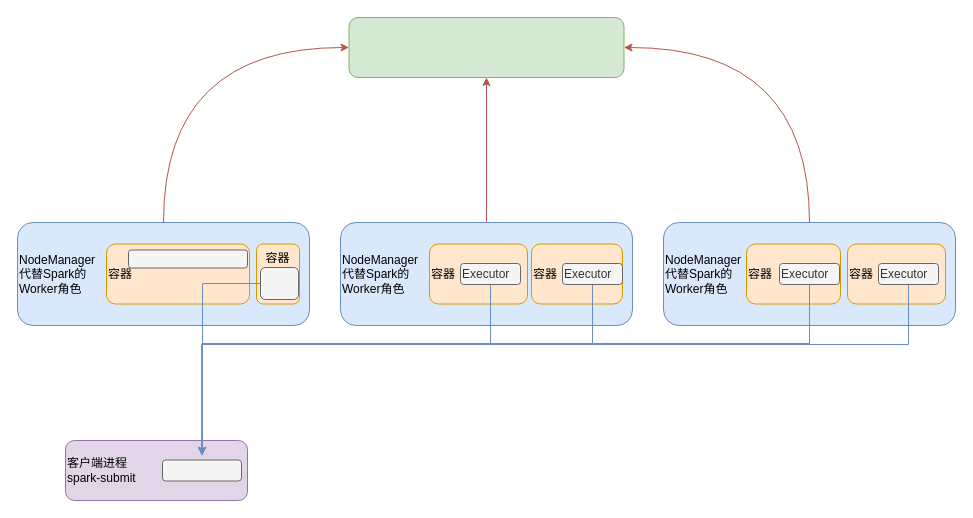
The diagram is 973 pixels wide and 518 high, and some of its shapes have lost their labels. Here are the shapes that lost their labels. From the top down, the centre of each, then its label:
At point (486, 47): "ResourceManager 代替Spark的Master角色".
At point (188, 258): "ApplicationMaster".
At point (279, 283): "Exec utor".
At point (202, 470): "Driver".
